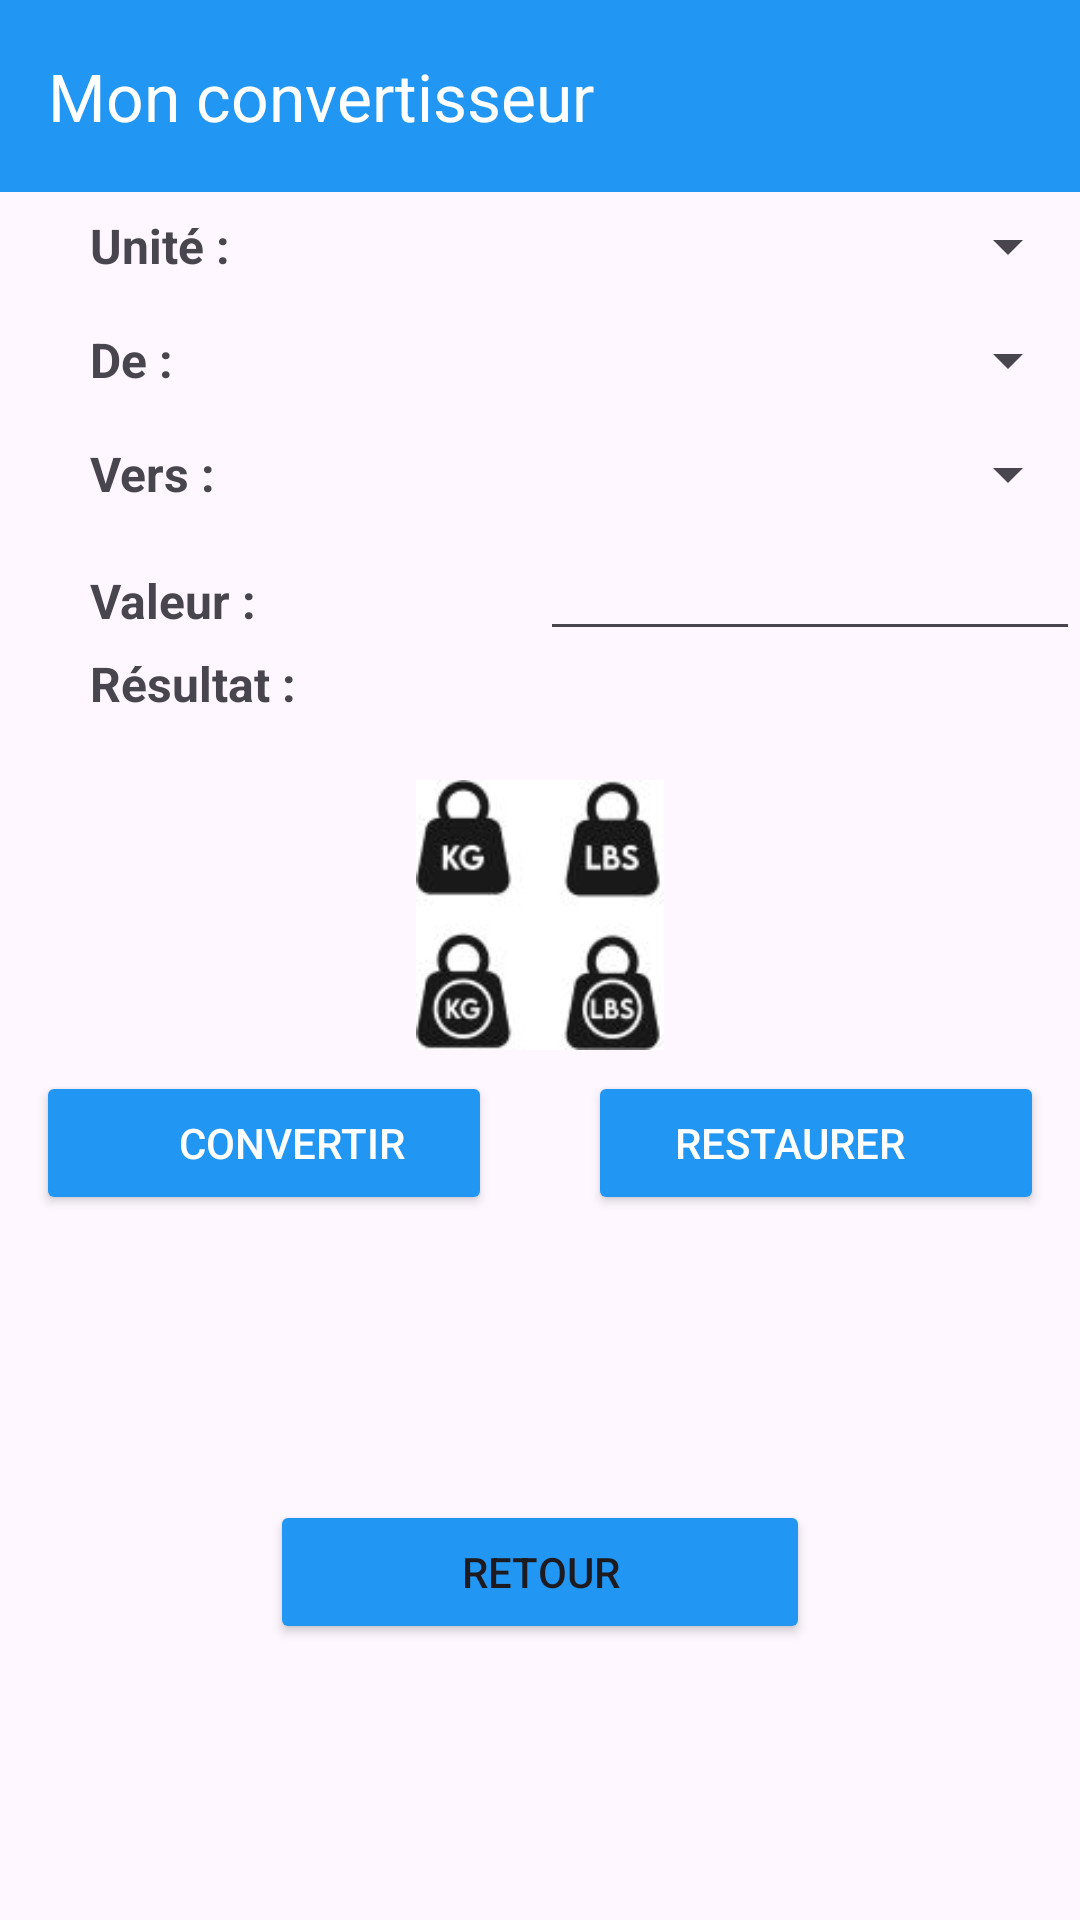

Named icons in this screenshot (1080 × 1920) and their centers, (x,y):
poids: (538,915)
